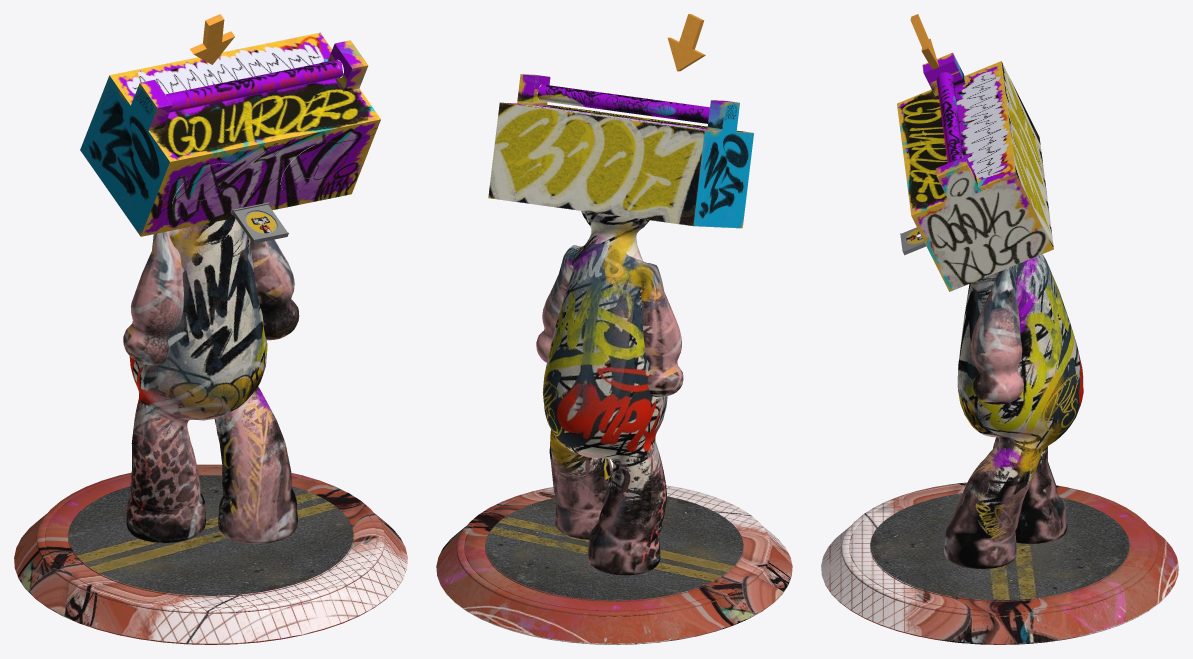
The picture shows the model from 3 angles, left to right: view 1: azimuth 30°, elevation 25°; view 2: azimuth 150°, elevation 25°; view 3: azimuth 270°, elevation 25°; orthographic projection. The views are drawn at different scales.
Bounding box in the file's own units: 1.45 × 2.39 × 1.45.
Materials: 9 (6 with a texture image).
